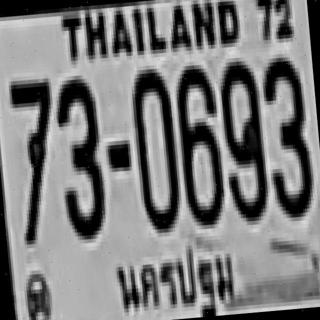N00: (127, 64, 179, 230)
N03: (52, 74, 106, 237), (259, 52, 313, 215)
N06: (172, 60, 223, 223)
N07: (5, 75, 60, 241)
N09: (216, 56, 267, 219)
P28: (108, 238, 240, 320)
